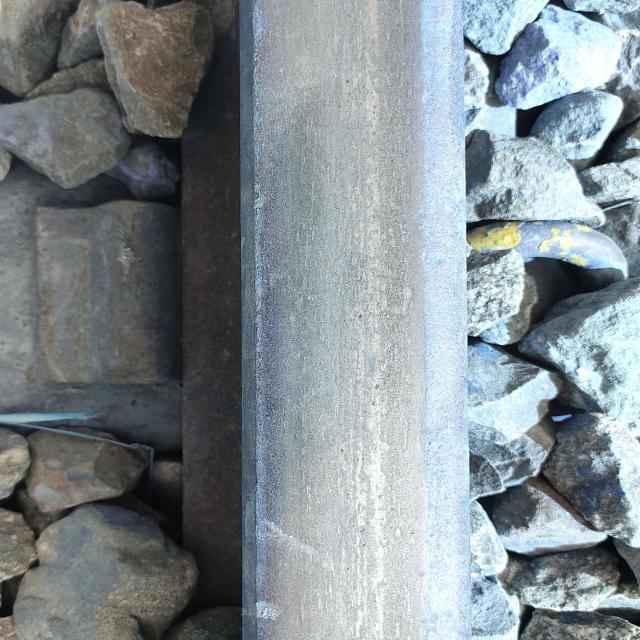Good Fasteners: (467, 220, 630, 280)
Missing Fastener: (20, 185, 194, 424)
